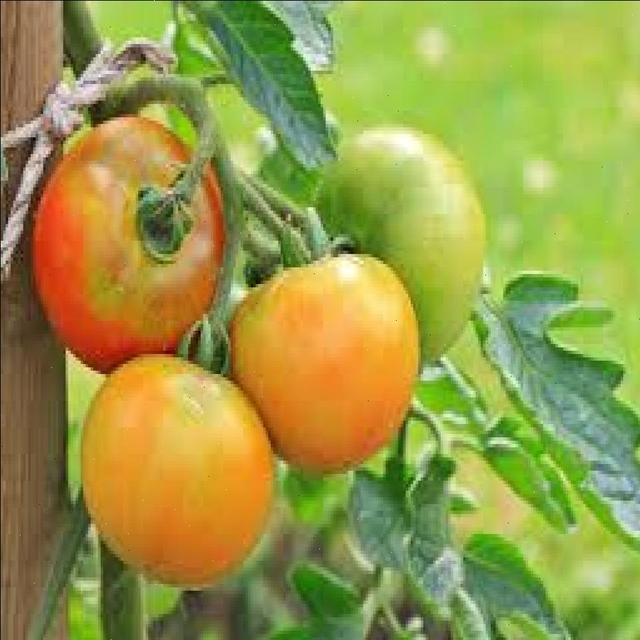Spotted wilt Virus Fruit: (86, 144, 216, 314)
